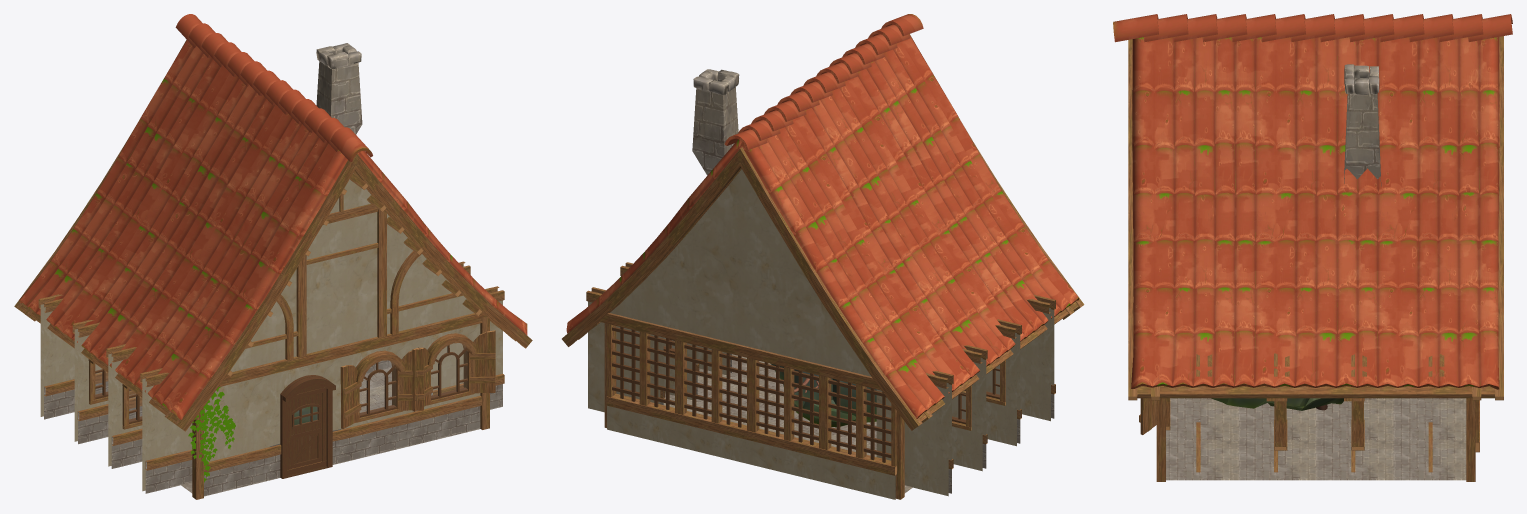
File: stylized-alpine.glb
3 renders of one model, left to right at view 1: azimuth 30°, elevation 25°; view 2: azimuth 150°, elevation 25°; view 3: azimuth 270°, elevation 25°, orthographic. The views are drawn at different scales.
Parts seen in each view (by area): view 1: CottageA_RoundTiles, CottageA_Plaster, CottageA_WoodTrim, CottageA_Brick, CottageA_WoodTrim_Wear, CottageA_Vine, CottageA_RockTrim; view 2: CottageA_RoundTiles, CottageA_Plaster, CottageA_WoodTrim, CottageA_Brick, CottageA_WoodTrim_Wear, CottageA_RockTrim, RockB_Rocks; view 3: CottageA_RoundTiles, CottageA_Brick, CottageA_WoodTrim, CottageA_WoodTrim_Wear, CottageA_RockTrim, RockB_Rocks.
Part boxes in pixels (bbox=[...]): CottageA_RoundTiles: bbox=[19, 14, 527, 419]; CottageA_Plaster: bbox=[40, 173, 502, 491]; CottageA_WoodTrim: bbox=[14, 39, 532, 499]; CottageA_Brick: bbox=[44, 61, 502, 496]; CottageA_WoodTrim_Wear: bbox=[88, 330, 495, 429]; CottageA_Vine: bbox=[188, 387, 235, 482]; CottageA_RockTrim: bbox=[269, 43, 361, 479]; CottageA_RoundTiles: bbox=[566, 14, 1078, 418]; CottageA_Plaster: bbox=[588, 169, 1054, 499]; CottageA_WoodTrim: bbox=[562, 34, 1084, 499]; CottageA_Brick: bbox=[660, 87, 1054, 493]; CottageA_WoodTrim_Wear: bbox=[663, 339, 1005, 430]; CottageA_RockTrim: bbox=[693, 69, 739, 95]; RockB_Rocks: bbox=[770, 363, 876, 422]; CottageA_RoundTiles: bbox=[1113, 14, 1512, 389]; CottageA_Brick: bbox=[1166, 73, 1466, 480]; CottageA_WoodTrim: bbox=[1128, 36, 1503, 481]; CottageA_WoodTrim_Wear: bbox=[1139, 398, 1364, 450]; CottageA_RockTrim: bbox=[1344, 64, 1379, 94]; RockB_Rocks: bbox=[1211, 398, 1309, 408].
Size of the model in its own units: 12 by 10.81 by 10.17.
14 materials, 13 textured.
